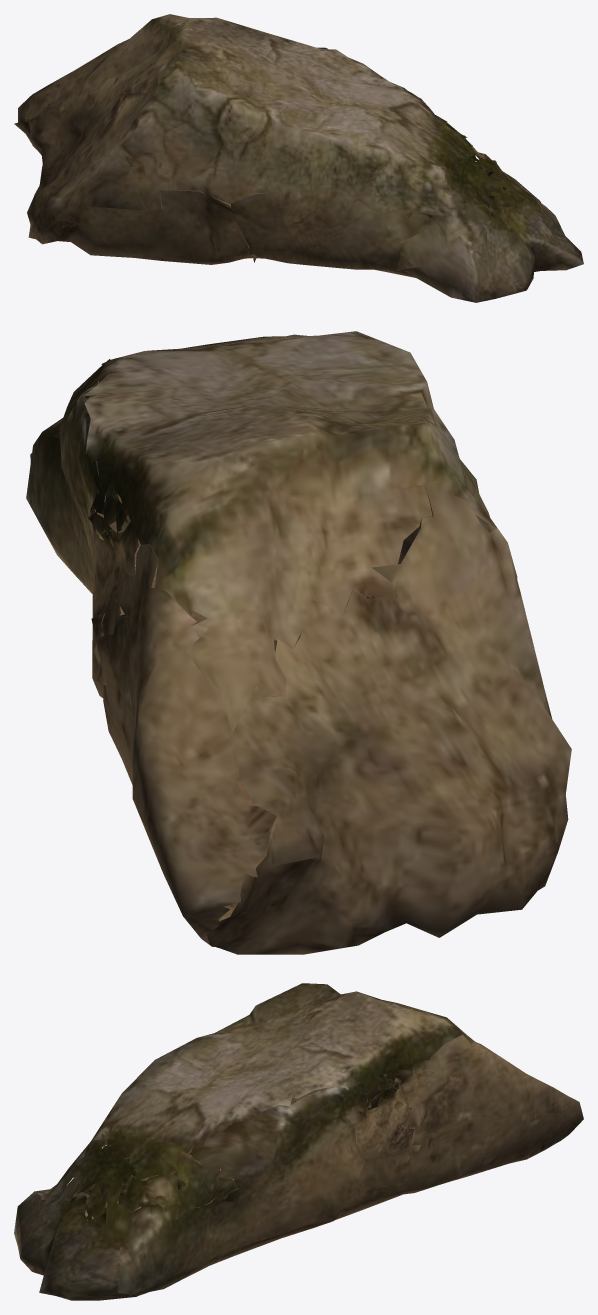
Rendered from rock_1.glb.
3 renders of one model, top to bottom at view 1: azimuth 30°, elevation 25°; view 2: azimuth 150°, elevation 25°; view 3: azimuth 270°, elevation 25°, orthographic. The views are drawn at different scales.
Parts seen in each view (by area): view 1: rock_moss_set_01_rock02; view 2: rock_moss_set_01_rock02; view 3: rock_moss_set_01_rock02.
Boxes of the visible parts, x1,y1,x2,y2 form: rock_moss_set_01_rock02: (14, 14, 583, 302); rock_moss_set_01_rock02: (26, 331, 571, 954); rock_moss_set_01_rock02: (14, 983, 583, 1300).
Bounding box in the file's own units: 2.64 × 1.26 × 3.26.
Materials: 1 (1 with a texture image).
